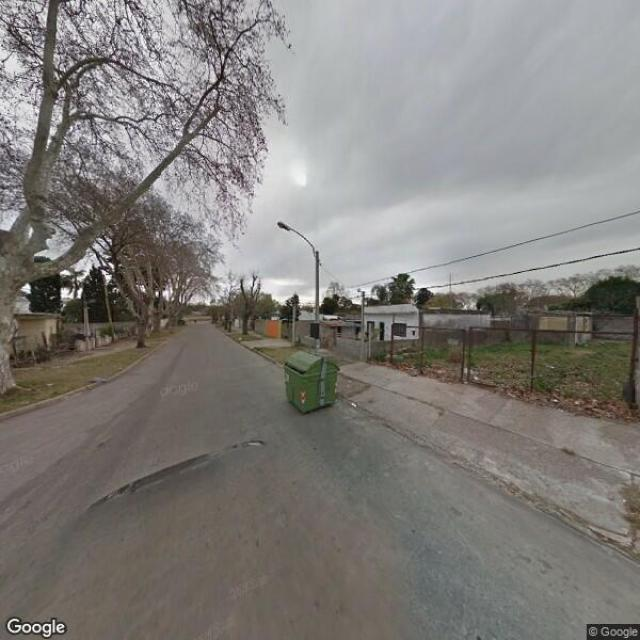garbage container: (275, 348, 354, 426)
